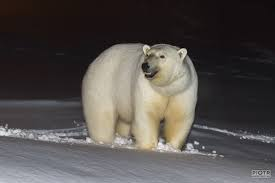PolarBear: (76, 34, 209, 157)
